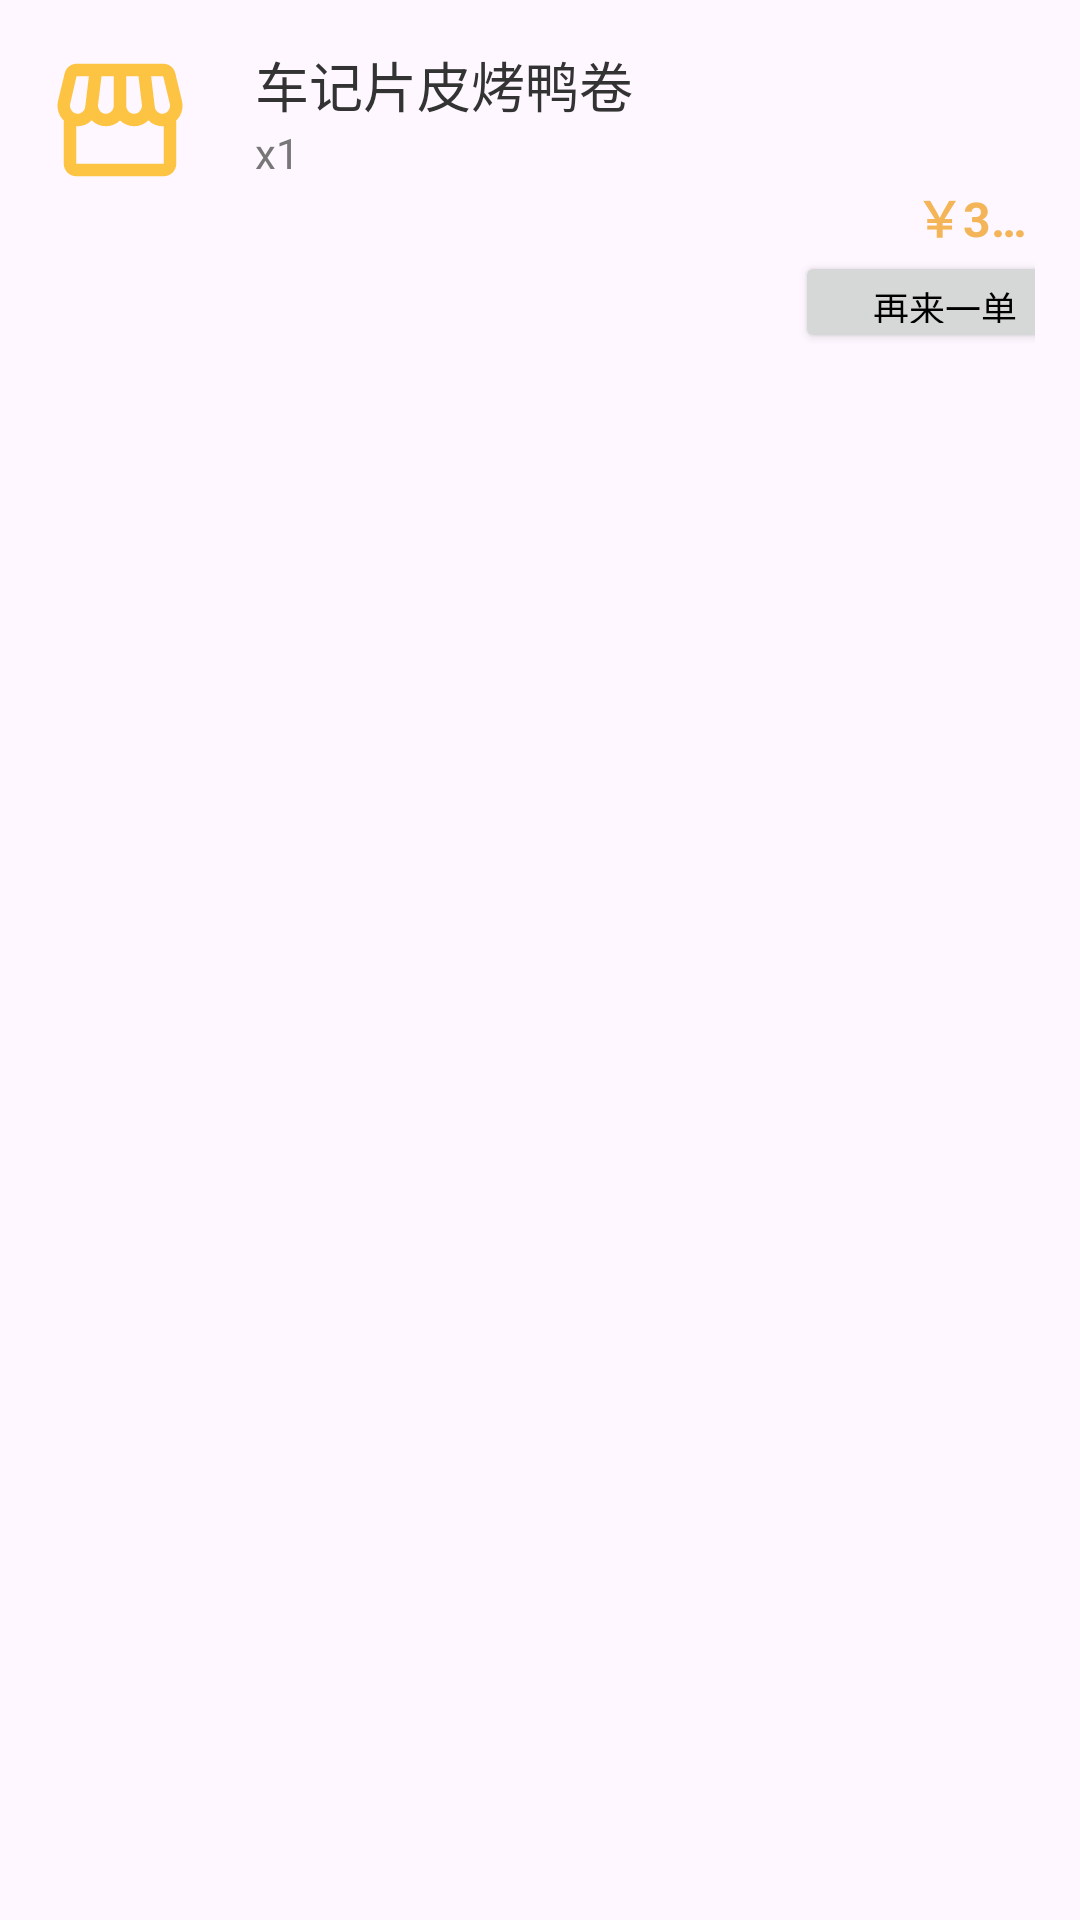

Locate icon controls on the screen. Image size 1080x1920, boxes as [x1, y1, x2, y2].
store: [57, 63, 183, 177]
